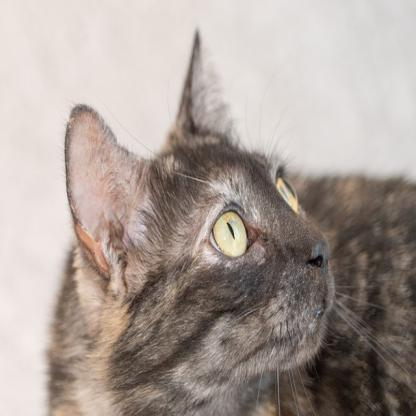cat: (49, 27, 416, 415)
